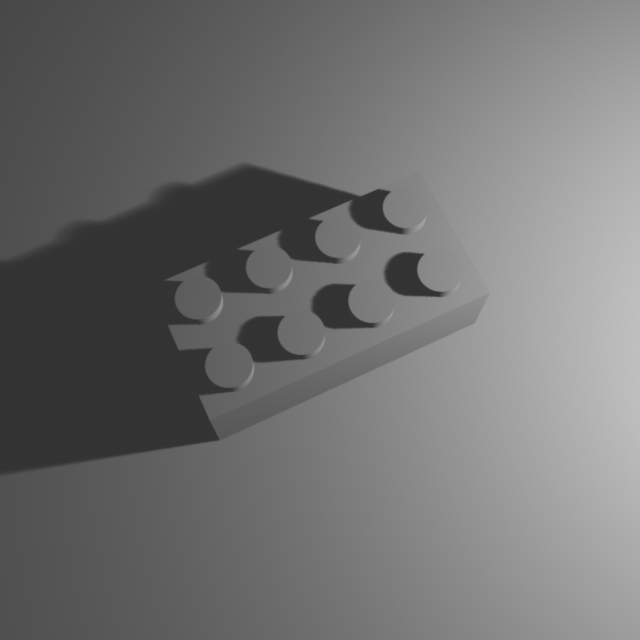lego_2x4: (148, 164, 493, 440)
